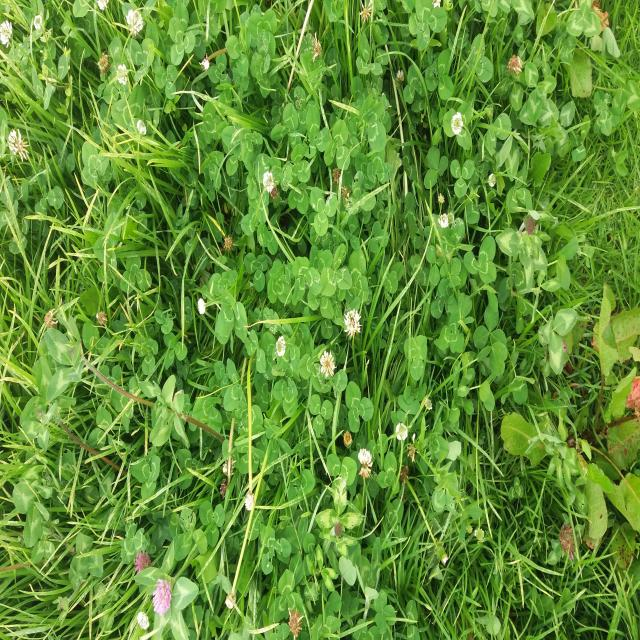Four Leaf Clover: (359, 95, 388, 152)
